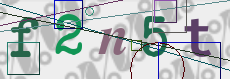2: (54, 13, 84, 56)
5: (142, 14, 166, 57)
f: (9, 16, 39, 58)
n: (97, 26, 126, 55)
t: (183, 17, 212, 58)
